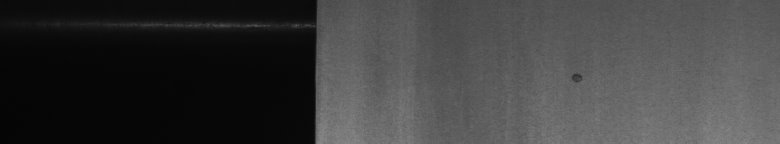fi: (571, 65, 587, 88)
